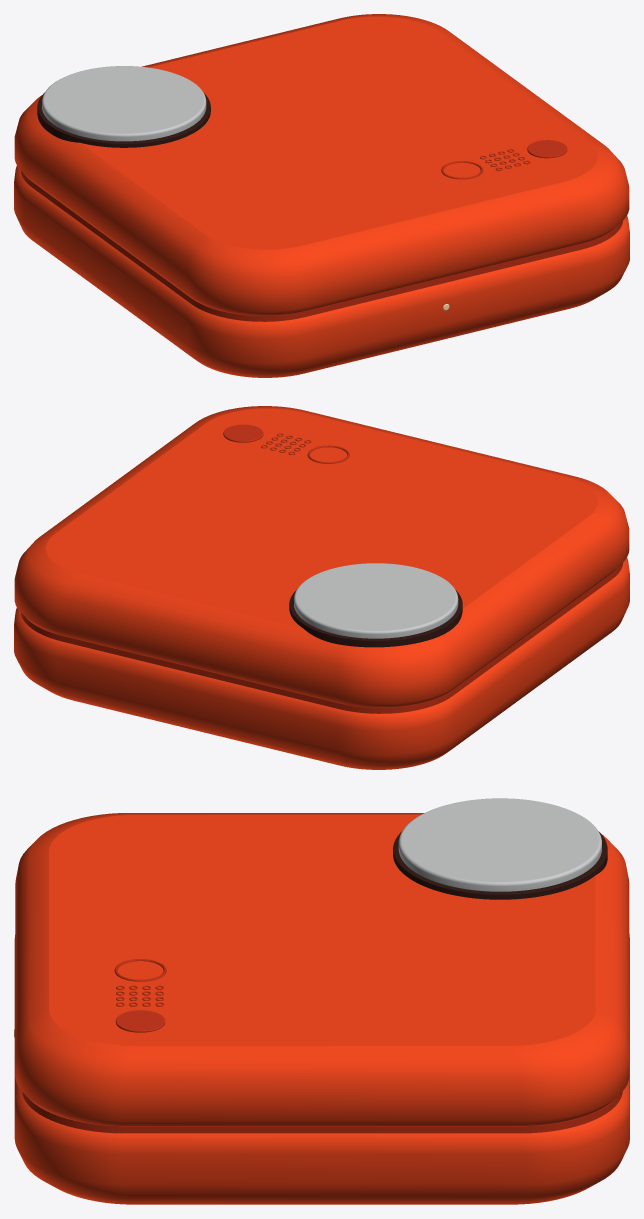
The model's file is buds-case.glb.
3 renders of one model, top to bottom at view 1: azimuth 30°, elevation 25°; view 2: azimuth 150°, elevation 25°; view 3: azimuth 270°, elevation 25°, orthographic. The views are drawn at different scales.
Visible parts, largest first — view 1: Lid shell, Lower shell, SmartDialFace, Parting line, Dial gasket, Raised circle; view 2: Lid shell, Lower shell, SmartDialFace, Parting line, Dial gasket, Raised circle; view 3: Lid shell, Lower shell, SmartDialFace, Parting line, Dial gasket, Raised circle.
Part boxes in pixels (x1=…): Lid shell: x1=14, y1=14, x2=629, y2=315; Lower shell: x1=14, y1=166, x2=629, y2=377; SmartDialFace: x1=42, y1=66, x2=206, y2=141; Parting line: x1=20, y1=170, x2=622, y2=321; Dial gasket: x1=37, y1=92, x2=210, y2=147; Raised circle: x1=527, y1=140, x2=567, y2=158; Lid shell: x1=14, y1=406, x2=629, y2=707; Lower shell: x1=14, y1=558, x2=629, y2=769; SmartDialFace: x1=294, y1=563, x2=458, y2=638; Parting line: x1=21, y1=562, x2=623, y2=713; Dial gasket: x1=289, y1=590, x2=462, y2=647; Raised circle: x1=223, y1=424, x2=263, y2=442; Lid shell: x1=15, y1=813, x2=629, y2=1125; Lower shell: x1=14, y1=934, x2=629, y2=1204; SmartDialFace: x1=398, y1=798, x2=601, y2=891; Parting line: x1=22, y1=1091, x2=622, y2=1133; Dial gasket: x1=393, y1=831, x2=607, y2=899; Raised circle: x1=115, y1=1010, x2=165, y2=1032.
Bounding box in the file's own units: 2.43 × 0.7495 × 2.43.
